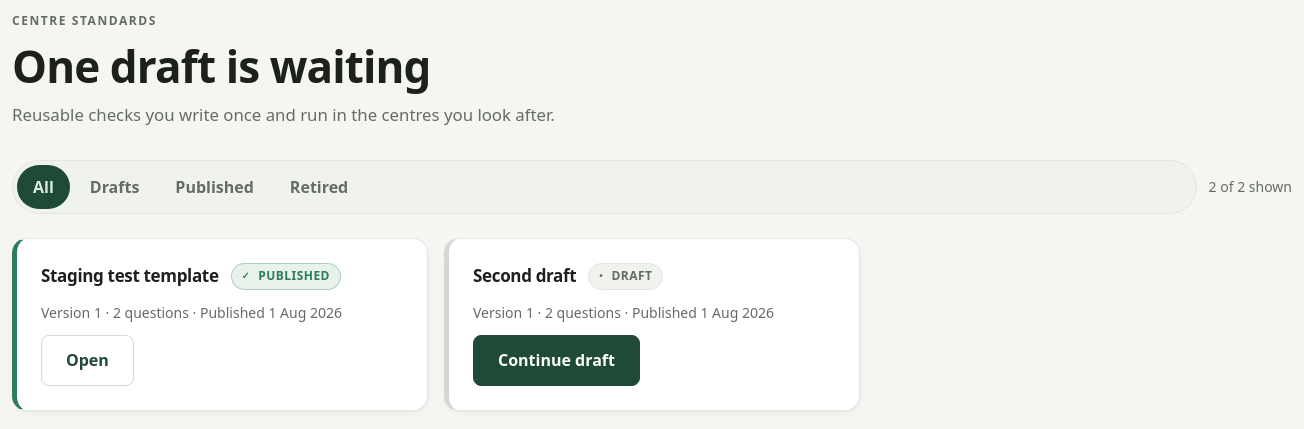
Test case: template library › the filter narrows a list already in hand
This screenshot has width=1304, height=429.
Click the button "Drafts" at (115, 187), box [74, 165, 155, 209]
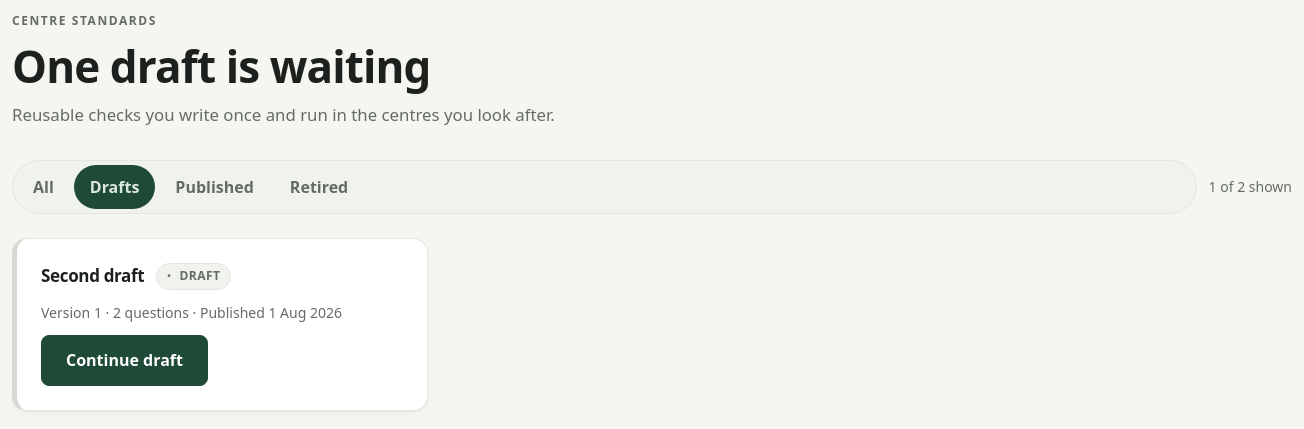
Expected: the heading "Second draft" is shown, [41, 263, 144, 290]
Expected: the heading "Staging test template" is gone
